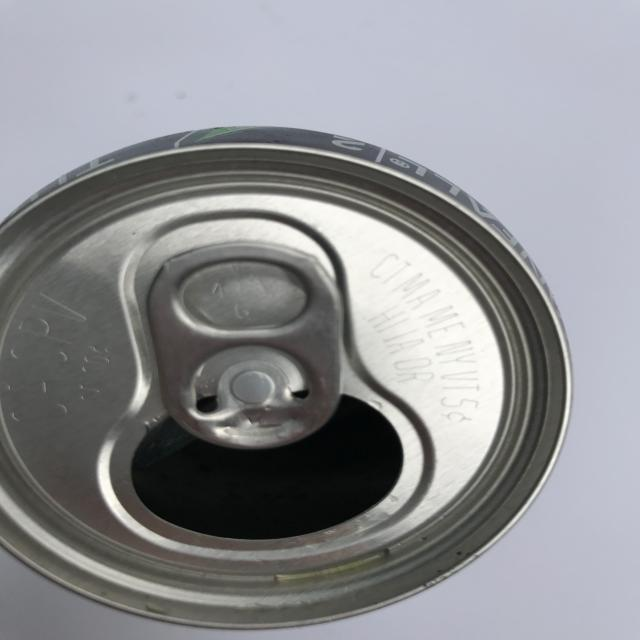metal: (1, 124, 574, 630)
